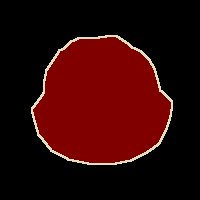hat: (32, 36, 172, 164)
